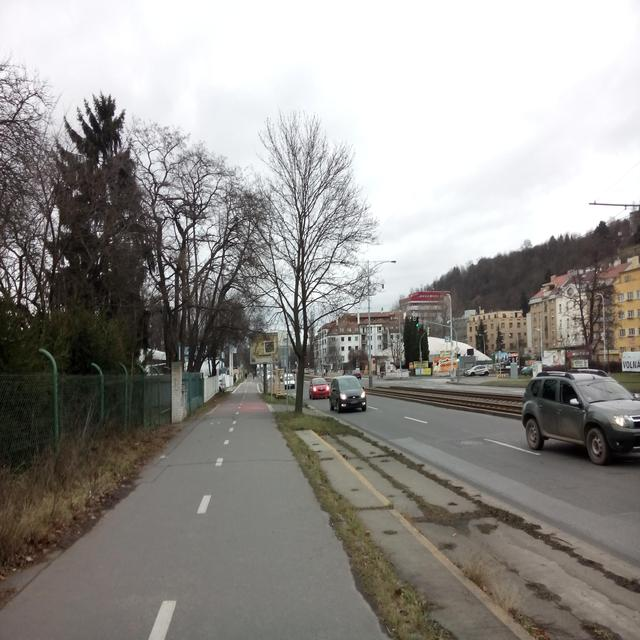Billboard: (385, 350, 456, 374), (572, 352, 639, 371), (249, 332, 281, 364), (541, 357, 549, 365)
Car: (463, 364, 639, 465), (309, 370, 365, 412)
Manhole: (460, 440, 483, 444)
Vegetation: (0, 407, 151, 587), (369, 263, 449, 374)
